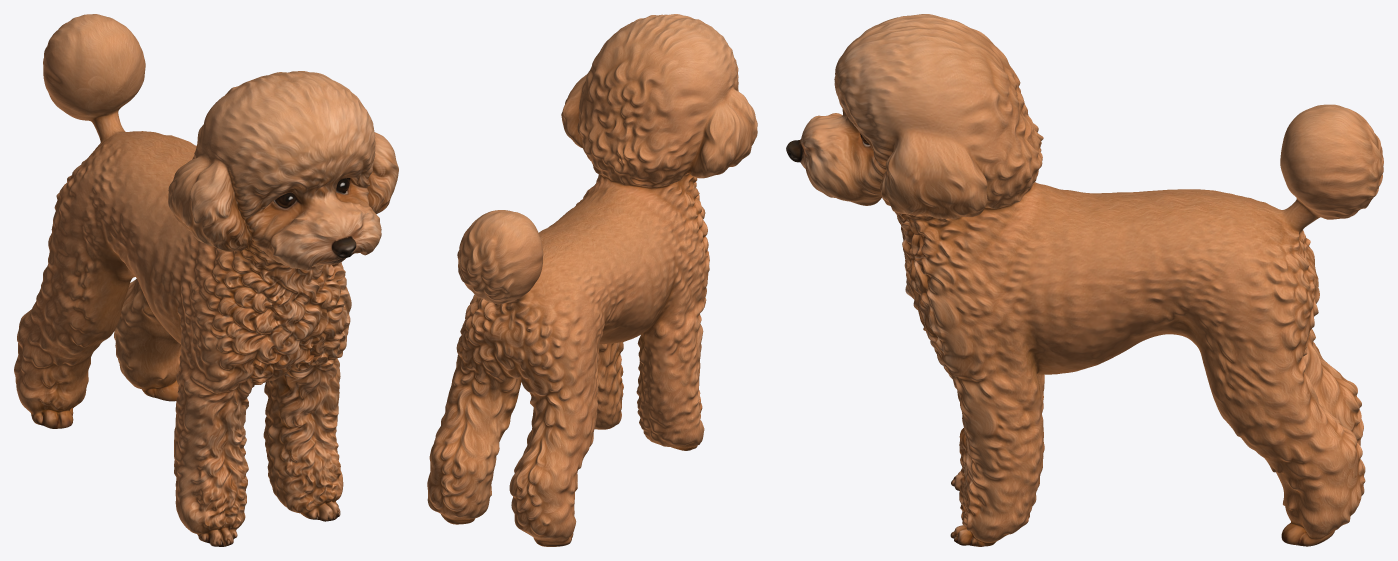
File: caniche-meshy.glb
The picture shows the model from 3 angles, left to right: view 1: azimuth 30°, elevation 25°; view 2: azimuth 150°, elevation 25°; view 3: azimuth 270°, elevation 25°; orthographic projection. The views are drawn at different scales.
Bounding box in the file's own units: 0.7892 × 1.73 × 1.92.
1 material, 1 textured.
